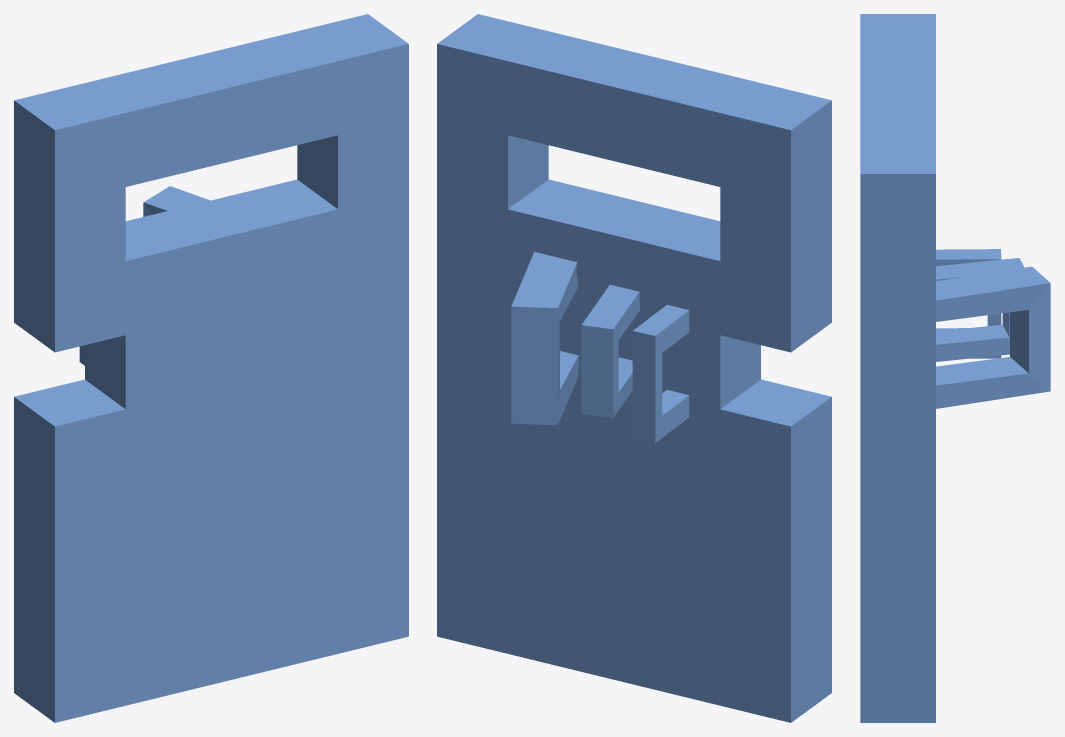
The model's file is CubeShield.fbx.
3 views of the same model, side by side, from view 1: azimuth 30°, elevation 25°; view 2: azimuth 150°, elevation 25°; view 3: azimuth 270°, elevation 25° (orthographic). The views are drawn at different scales.
Visible parts, largest first — view 1: Cube; view 2: Cube; view 3: Cube.
Boxes of the visible parts, x1=… form: Cube: x1=14, y1=14, x2=408, y2=722; Cube: x1=437, y1=14, x2=831, y2=722; Cube: x1=860, y1=14, x2=1050, y2=722.
Size of the model in its own units: 1000 by 1600 by 503.
